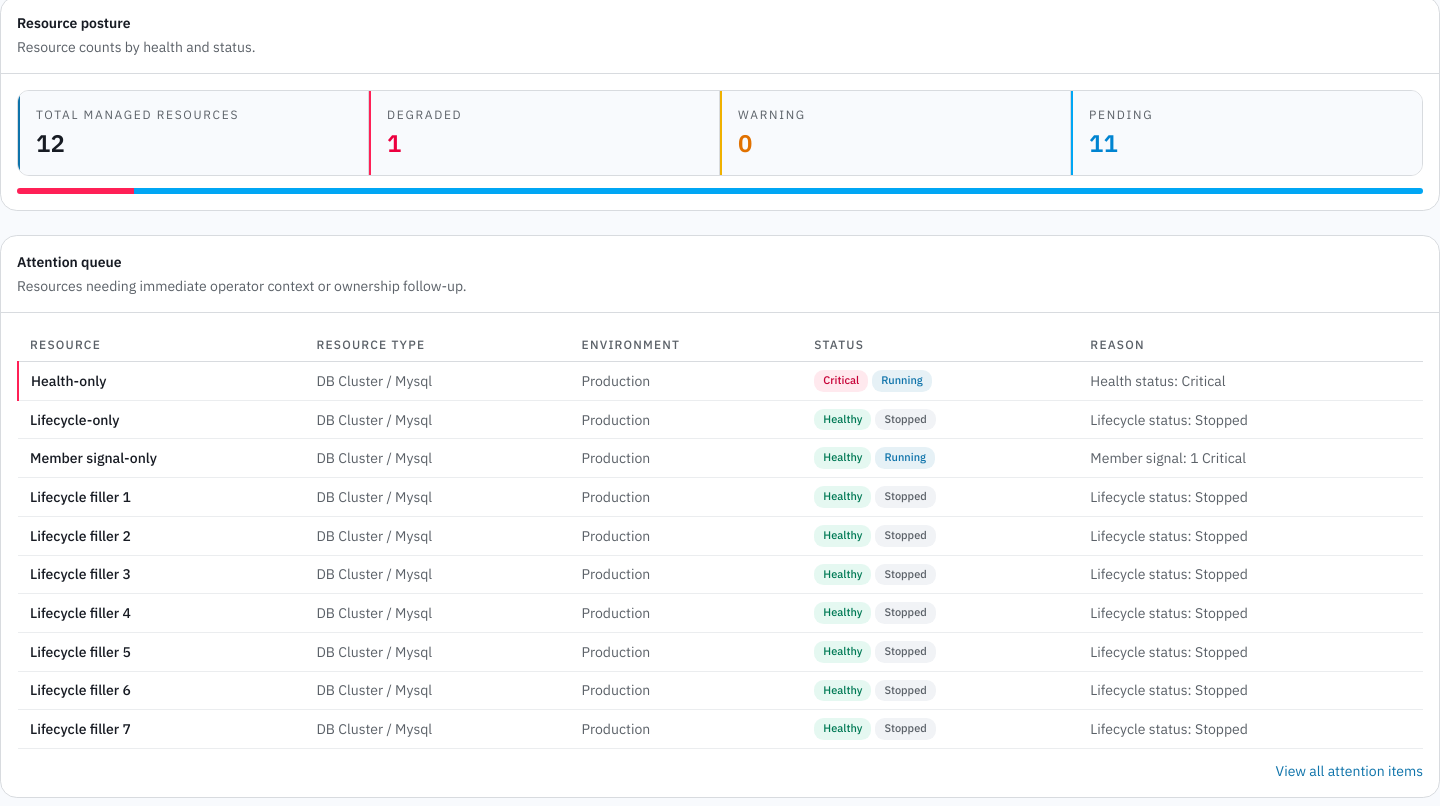
OverviewContent attention reason › expands the exact actionable union beyond the collapsed ten-row view
Expected: the link "Lifecycle-only" is shown, [30,410,120,428]
Expected: the link "Member signal-only" is shown, [30,449,157,467]
Click the button "View all attention items": (1349, 771) [1276,761,1423,781]
(page scrolled)
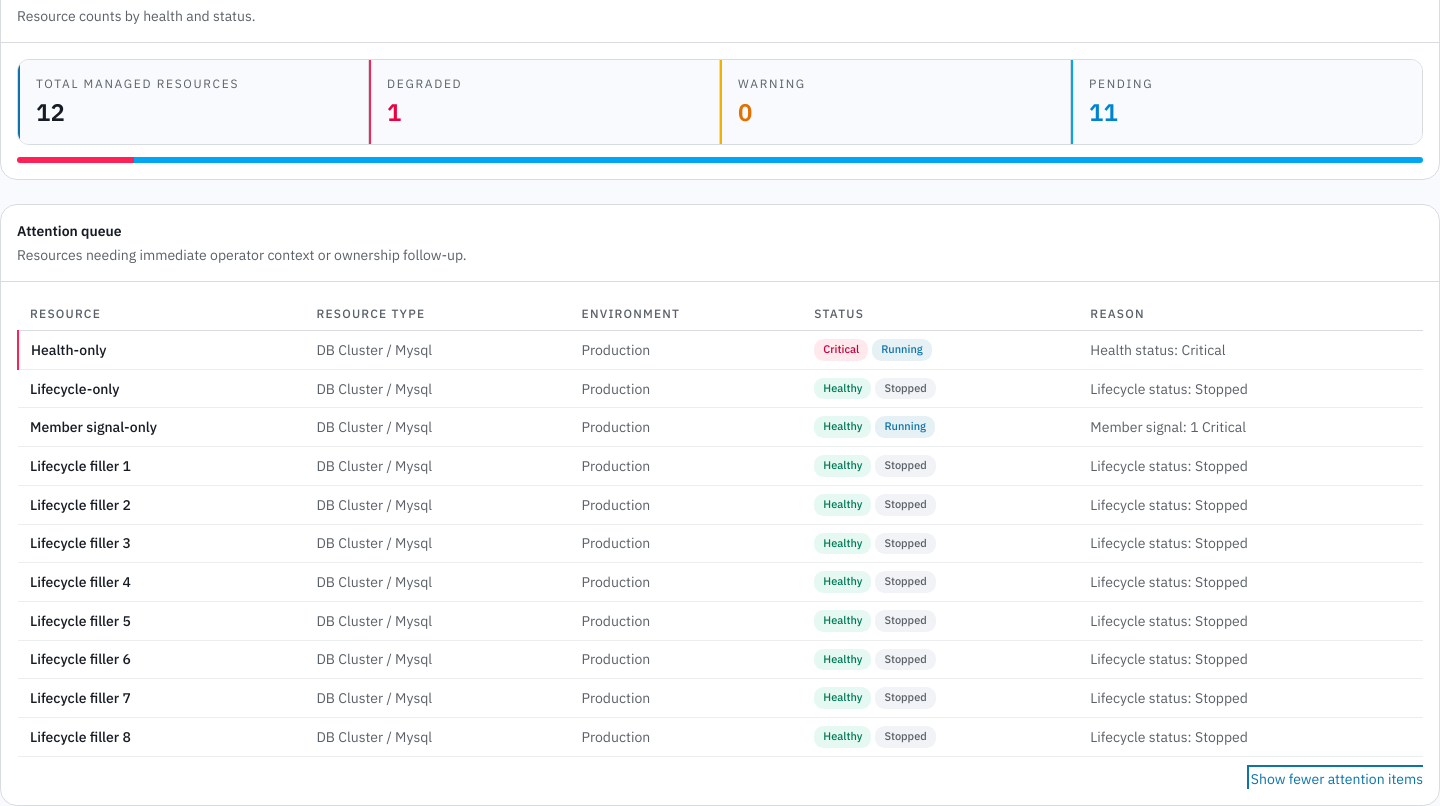
Expected: the link "Health-only" is shown, [31,341,106,359]
Expected: the link "Lifecycle filler 8" is shown, [30,728,131,746]
Expected: the button "Show fewer attention items" is expanded, [1251,769,1423,789]
